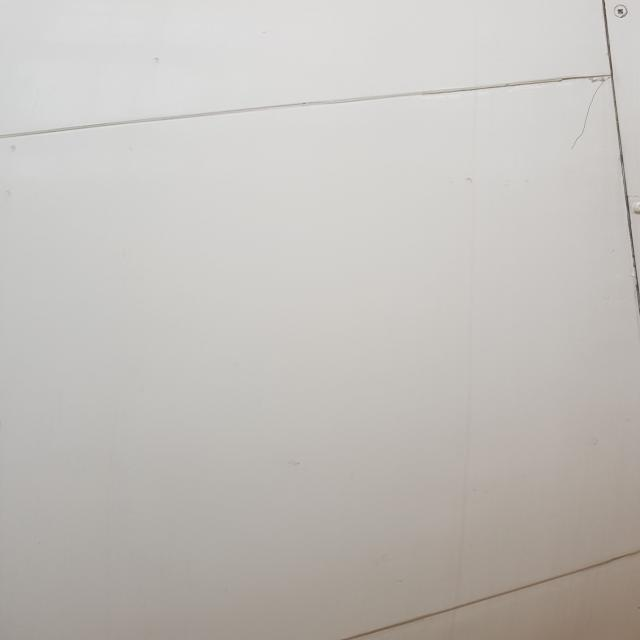Rupture: (568, 78, 620, 167)
